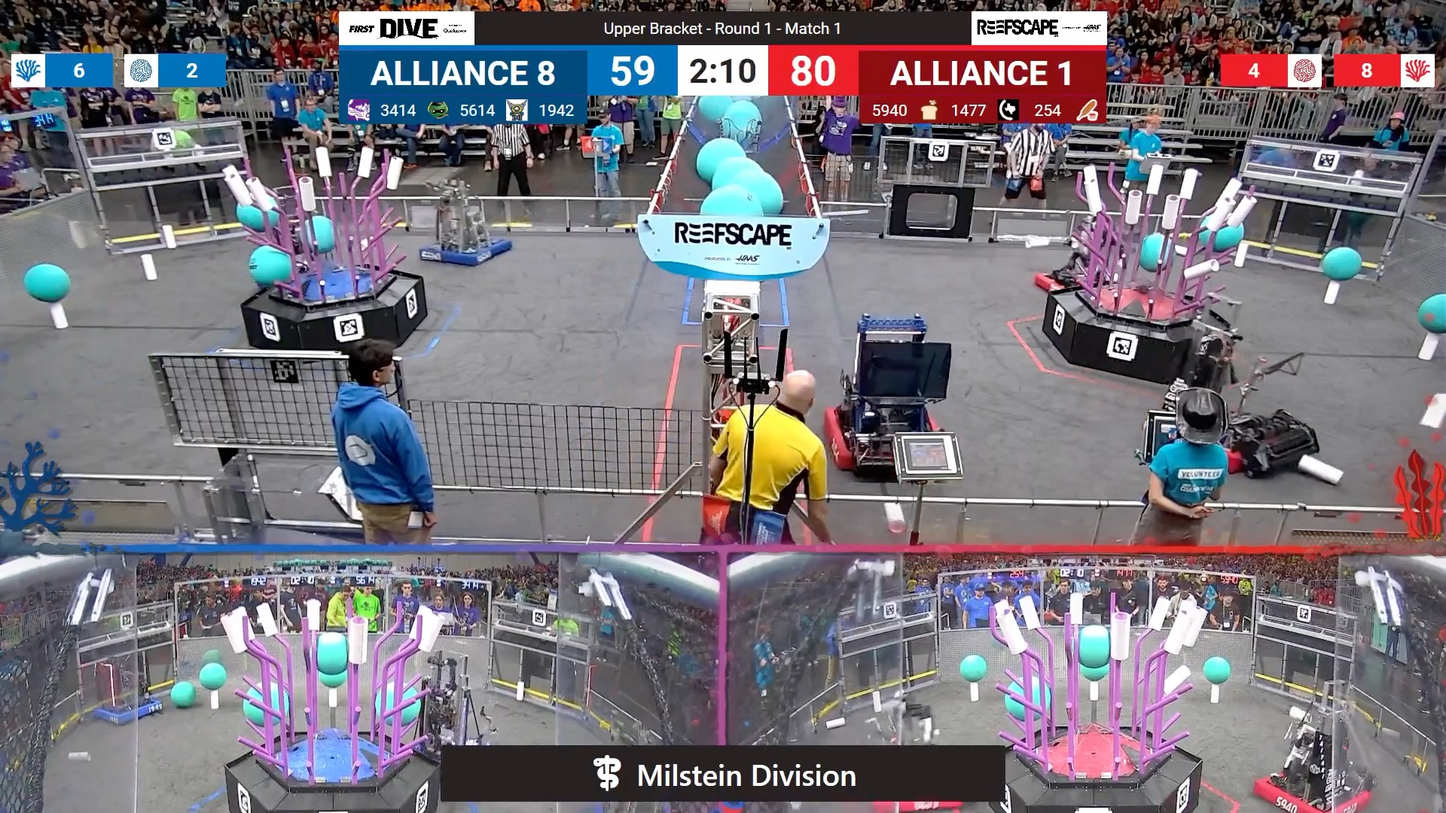bumpers: (1144, 407, 1307, 481), (820, 401, 961, 479), (1250, 766, 1386, 810), (412, 236, 518, 265), (92, 692, 169, 730), (1030, 265, 1091, 294), (862, 799, 973, 810)
